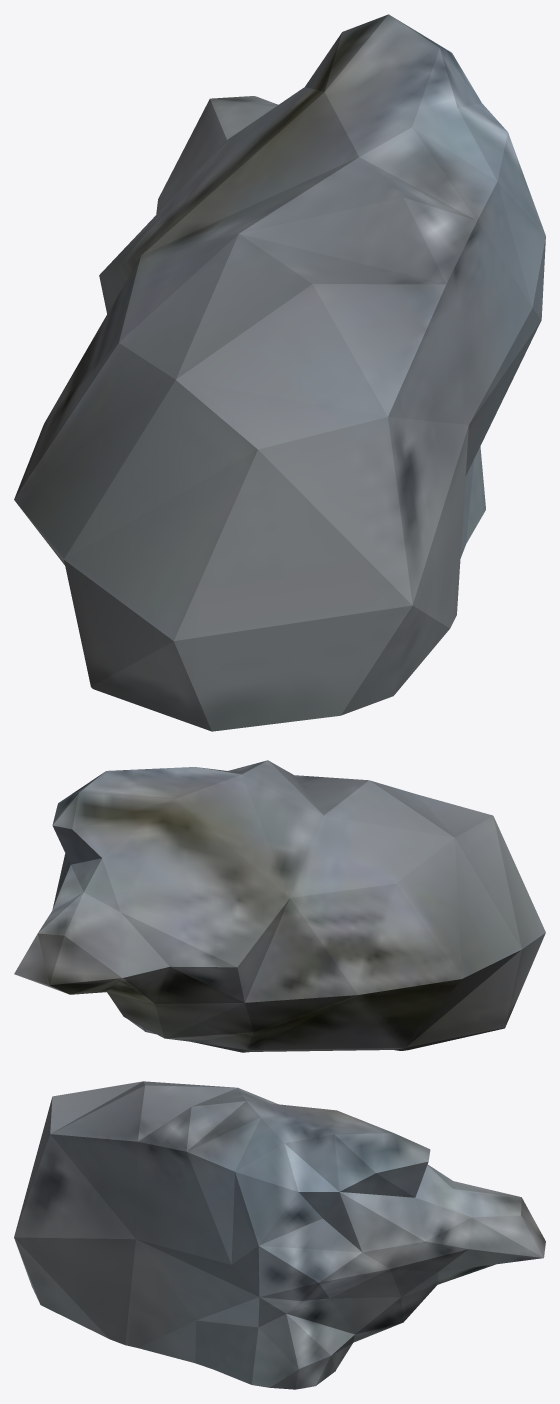
3 renders of one model, top to bottom at view 1: azimuth 30°, elevation 25°; view 2: azimuth 150°, elevation 25°; view 3: azimuth 270°, elevation 25°, orthographic. The views are drawn at different scales.
Size of the model in its own units: 0.7936 by 0.5262 by 0.9883.
Materials: 1 (1 with a texture image).
